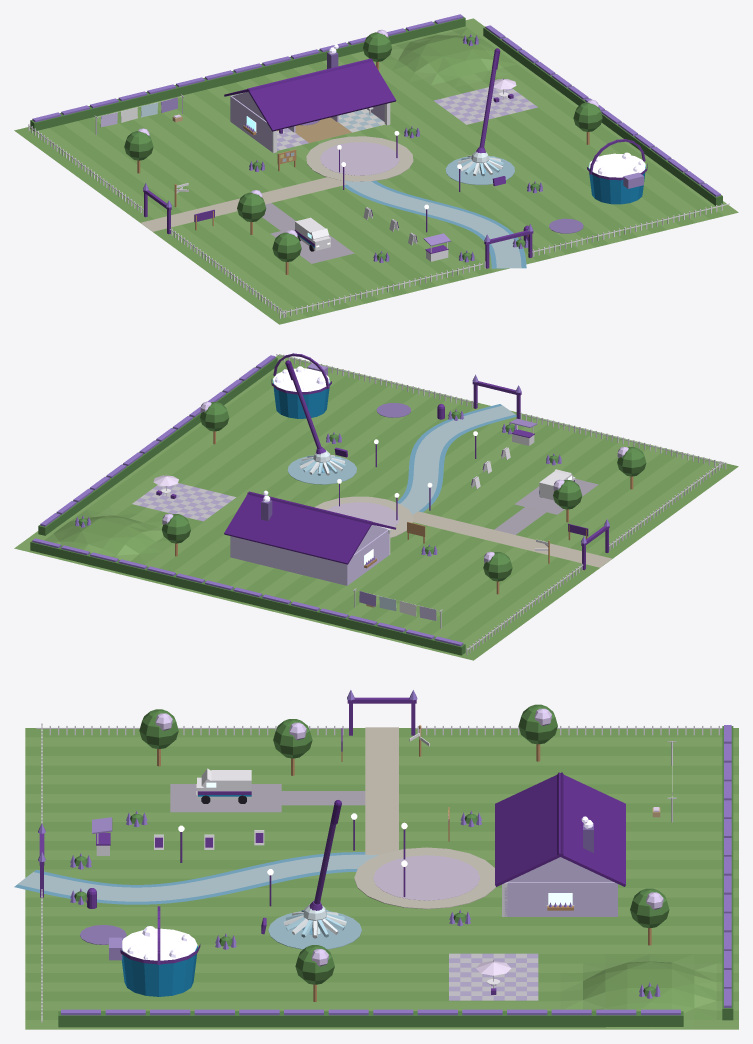
The model's file is world.glb.
3 renders of one model, top to bottom at view 1: azimuth 30°, elevation 25°; view 2: azimuth 150°, elevation 25°; view 3: azimuth 270°, elevation 25°, orthographic. The views are drawn at different scales.
Visible parts, largest first — view 1: ground, decor, structures; view 2: ground, structures, decor; view 3: ground, decor, structures.
Part boxes in pixels (x1,y1,x2,y2): ground: [14, 18, 738, 324]; decor: [32, 14, 720, 268]; structures: [28, 16, 729, 318]; ground: [14, 354, 738, 660]; structures: [30, 354, 726, 655]; decor: [32, 353, 646, 646]; ground: [25, 728, 738, 1029]; decor: [14, 690, 731, 1015]; structures: [36, 697, 733, 1027].
Bounding box in the file's own units: 64 × 14.6 × 65.01.
